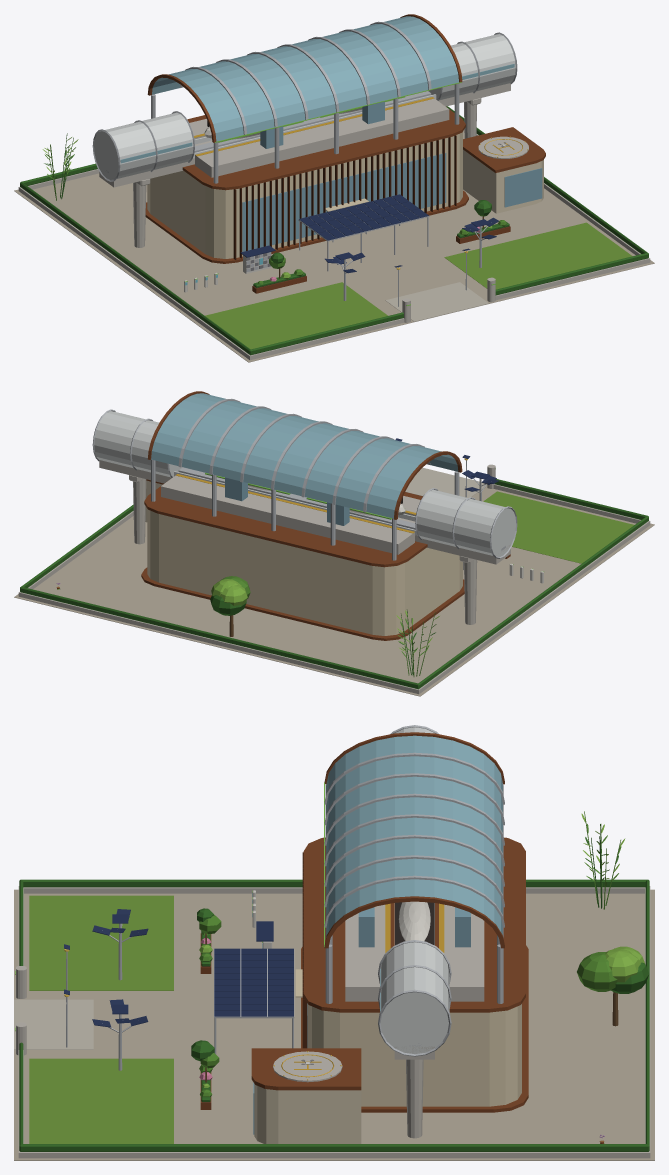
File: station.glb
3 renders of one model, top to bottom at view 1: azimuth 30°, elevation 25°; view 2: azimuth 150°, elevation 25°; view 3: azimuth 270°, elevation 25°, orthographic. The views are drawn at different scales.
Parts seen in each view (by area): view 1: body, windows; view 2: body; view 3: body, windows.
Part boxes in pixels (x1,y1,x2,y2): body: (14,14,654,362); windows: (185,82,527,305); body: (14,391,654,696); body: (14,725,654,1160); windows: (15,782,434,1080).
Size of the model in its own units: 47.9 by 17.59 by 47.9.
